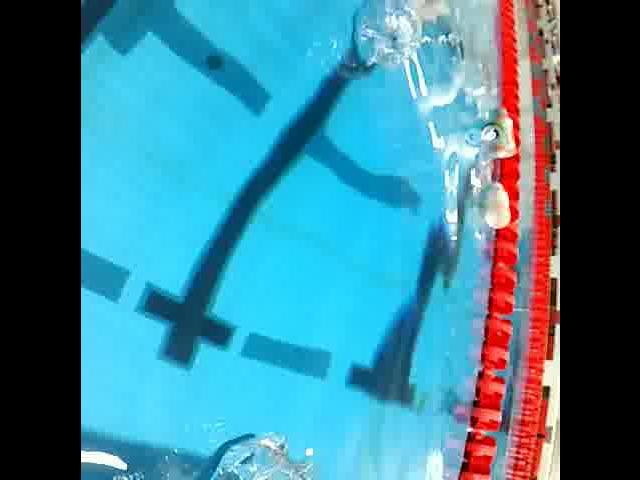Bottle: (94, 430, 326, 480), (349, 0, 437, 72), (484, 173, 514, 233), (491, 104, 515, 162)
Can: (479, 120, 504, 146)
